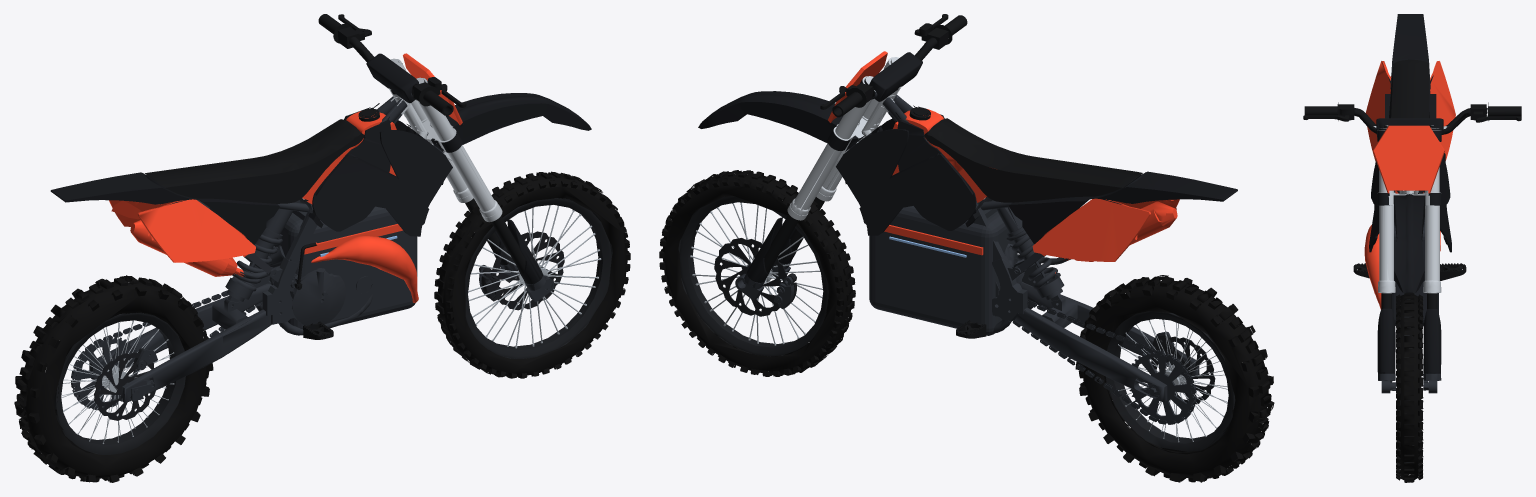
File: sport.glb
3 views of the same model, side by side, from view 1: azimuth 30°, elevation 25°; view 2: azimuth 150°, elevation 25°; view 3: azimuth 270°, elevation 25° (orthographic). The views are drawn at different scales.
Parts seen in each view (by area): view 1: Object_13, Object_15, Object_3, Object_2, Object_14, Object_12, GT_battery, Object_11, Object_16, Object_4, Object_5, Object_10 (+2 smaller); view 2: Object_13, Object_15, Object_3, GT_battery, Object_14, Object_2, Object_12, Object_11, Object_4, Object_7, Object_6, Object_16 (+3 smaller); view 3: Object_15, Object_12, Object_14, Object_13, Object_5, Object_7, Object_16, GT_battery, Object_6, Object_4, Object_3.
Part boxes in pixels (<box>): Object_13: <box>14,171,630,482</box>; Object_15: <box>50,53,591,284</box>; Object_3: <box>71,93,554,410</box>; Object_2: <box>54,198,612,454</box>; Object_14: <box>145,14,525,339</box>; Object_12: <box>109,53,462,262</box>; GT_battery: <box>269,201,417,328</box>; Object_11: <box>61,205,601,443</box>; Object_16: <box>130,220,418,302</box>; Object_4: <box>72,246,517,408</box>; Object_5: <box>400,62,499,213</box>; Object_10: <box>302,111,396,204</box>; Object_13: <box>659,170,1274,482</box>; Object_15: <box>698,52,1237,282</box>; Object_3: <box>772,91,1199,424</box>; GT_battery: <box>869,201,1017,335</box>; Object_14: <box>764,14,1142,338</box>; Object_2: <box>678,196,1235,451</box>; Object_12: <box>828,51,1179,261</box>; Object_11: <box>690,202,1227,442</box>; Object_4: <box>735,143,1194,423</box>; Object_7: <box>787,76,878,220</box>; Object_6: <box>816,57,900,201</box>; Object_16: <box>1055,200,1177,273</box>; Object_15: <box>1369,14,1451,373</box>; Object_12: <box>1366,61,1455,193</box>; Object_14: <box>1303,59,1521,308</box>; Object_13: <box>1396,293,1423,482</box>; Object_5: <box>1378,130,1440,286</box>; Object_7: <box>1423,125,1446,292</box>; Object_16: <box>1364,76,1391,309</box>; GT_battery: <box>1392,190,1438,326</box>; Object_6: <box>1373,125,1439,293</box>; Object_4: <box>1423,222,1441,393</box>; Object_3: <box>1378,126,1449,393</box>.
Size of the model in its own units: 1.98 by 1.11 by 0.7041.
